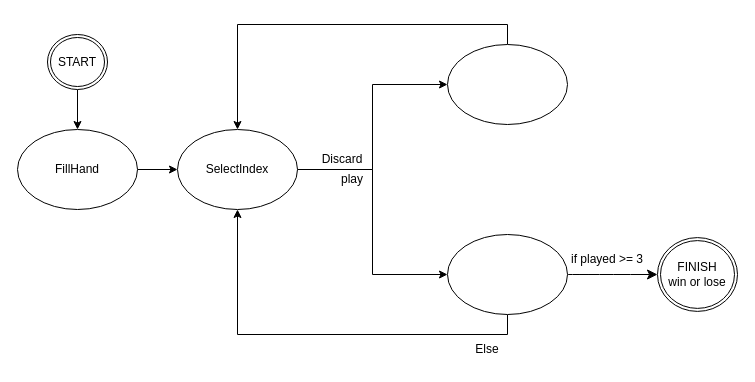
This 755x382 diagram has some shape labels left out. The centre of each missing label's shape, as x and y in pixels:
Discard - discard selected index - discarded += 1: [507,84]
Play - play selected index - played += 1 - score += score of play: [507,274]
